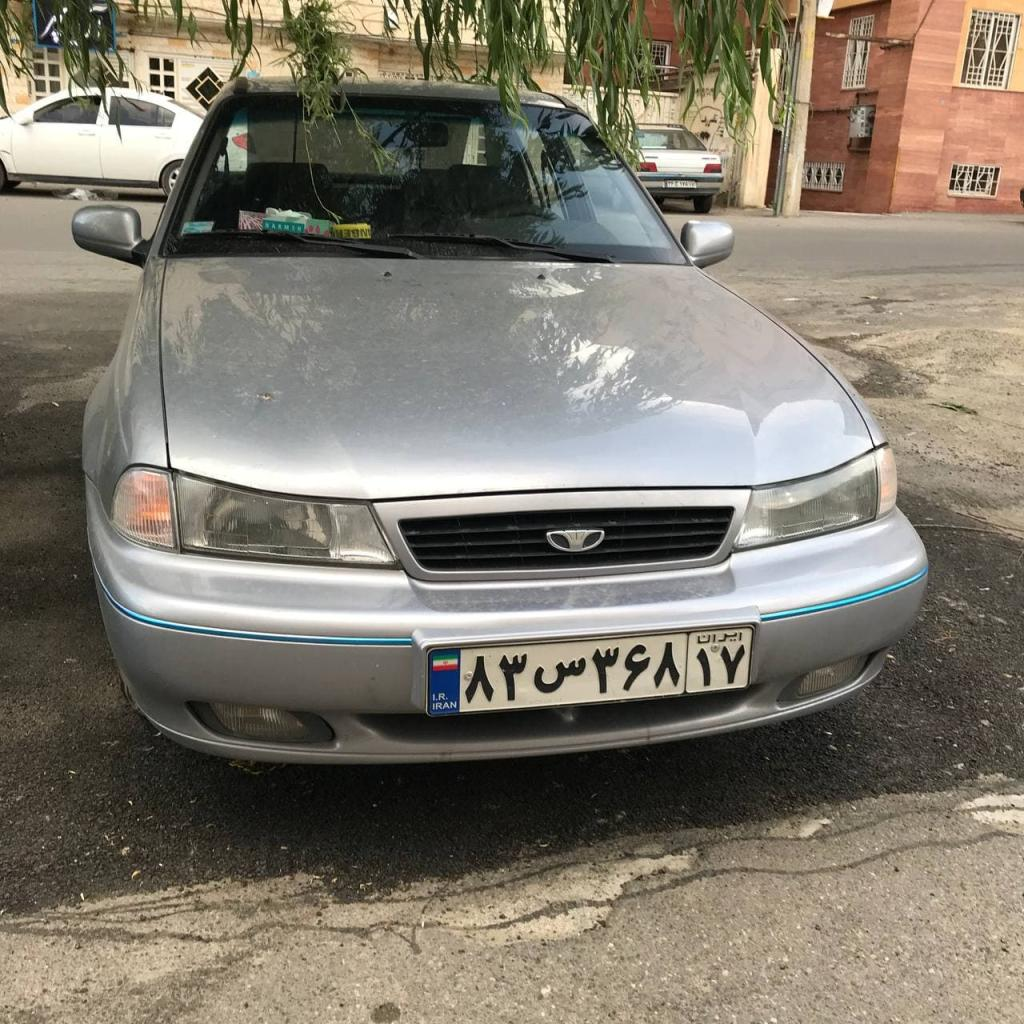Plates: (427, 626, 754, 717)
